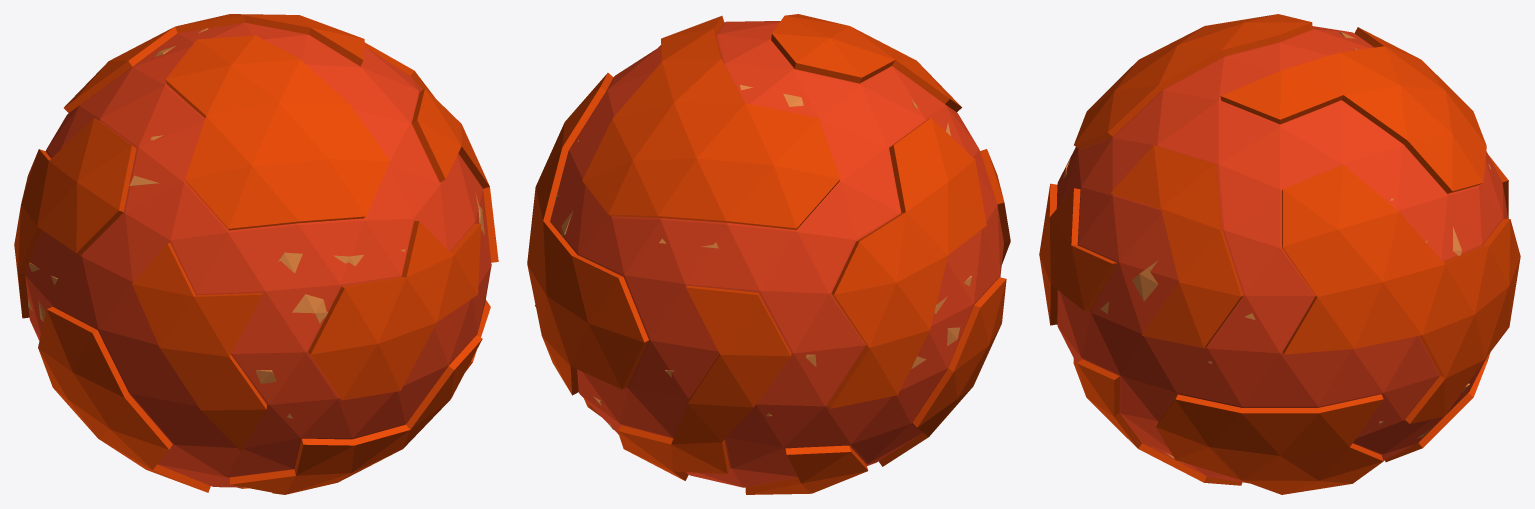
Rendered from Mars.fbx.
The picture shows the model from 3 angles, left to right: view 1: azimuth 30°, elevation 25°; view 2: azimuth 150°, elevation 25°; view 3: azimuth 270°, elevation 25°; orthographic projection.
Visible parts, largest first — view 1: Icosphere, Icosphere.002, Icosphere.001; view 2: Icosphere, Icosphere.002, Icosphere.001; view 3: Icosphere, Icosphere.002, Icosphere.001.
Boxes of the visible parts, <box> form: Icosphere: <box>14,14,498,494</box>; Icosphere.002: <box>25,22,491,487</box>; Icosphere.001: <box>28,28,484,488</box>; Icosphere: <box>527,14,1010,494</box>; Icosphere.002: <box>550,21,1003,487</box>; Icosphere.001: <box>555,85,972,429</box>; Icosphere: <box>1039,14,1520,494</box>; Icosphere.002: <box>1056,26,1508,483</box>; Icosphere.001: <box>1063,31,1490,463</box>.
Bounding box in the file's own units: 242 × 242 × 242.
